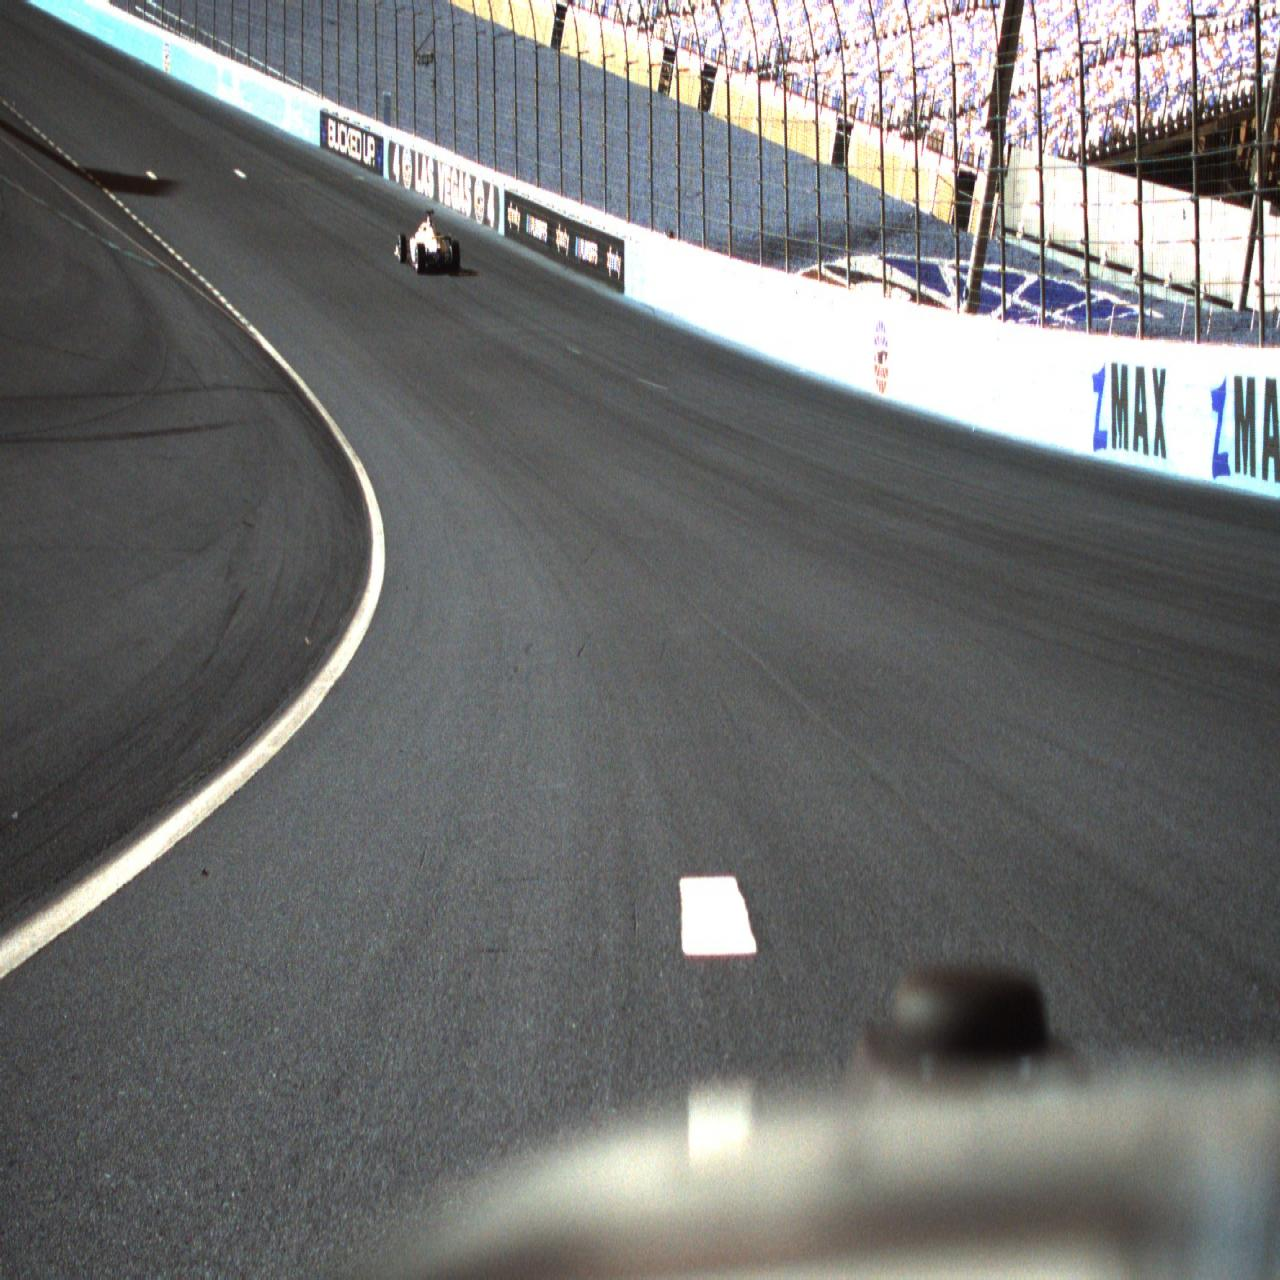AV: (394, 209, 459, 274)
Wheel: (415, 244, 425, 273), (450, 240, 459, 273), (399, 234, 407, 264)
